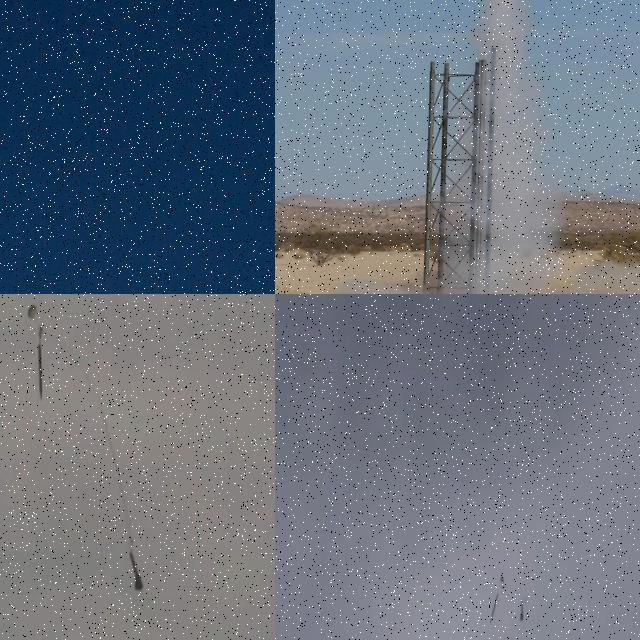Rocket: (130, 552, 143, 590), (520, 600, 524, 620)
